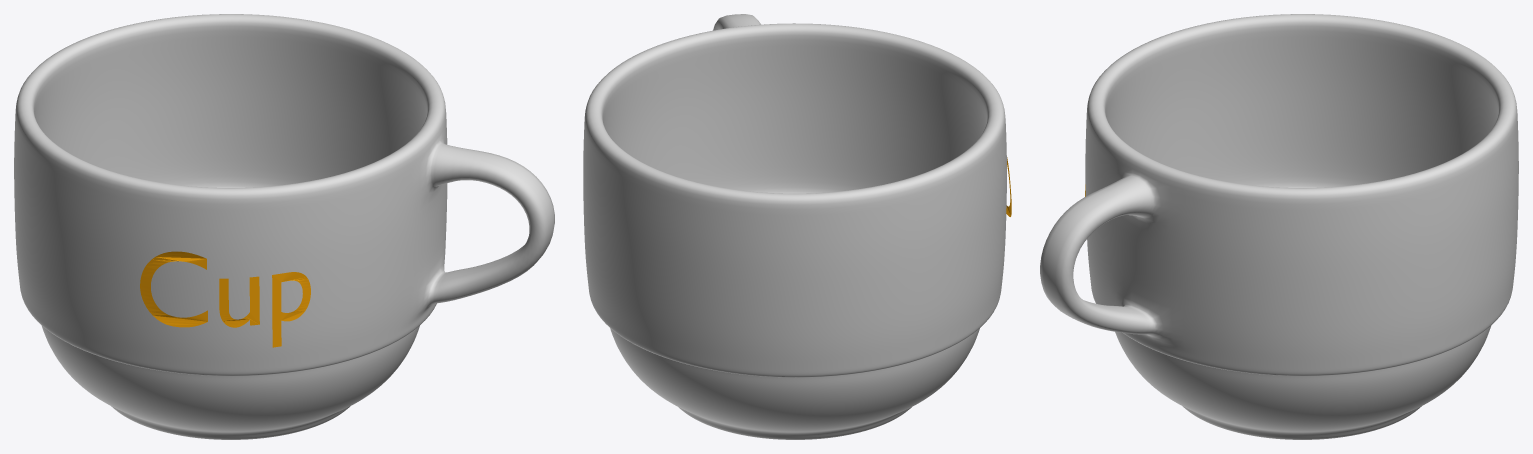
The model's file is cup.fbx.
The picture shows the model from 3 angles, left to right: view 1: azimuth 30°, elevation 25°; view 2: azimuth 150°, elevation 25°; view 3: azimuth 270°, elevation 25°; orthographic projection. The views are drawn at different scales.
Parts seen in each view (by area): view 1: Cup, Text; view 2: Cup; view 3: Cup.
Boxes of the visible parts, x1,y1,x2,y2 form: Cup: [14, 14, 554, 439]; Text: [140, 251, 310, 347]; Cup: [583, 14, 1006, 439]; Cup: [1040, 14, 1518, 439].
Size of the model in its own units: 15.13 by 10.53 by 16.03.
